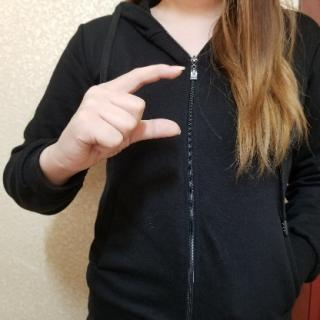DELL: (53, 59, 193, 176)
